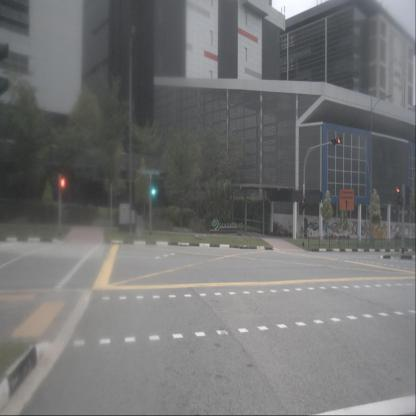vehicle-bicycle: (287, 223, 297, 238), (277, 222, 285, 237), (300, 225, 308, 238)
